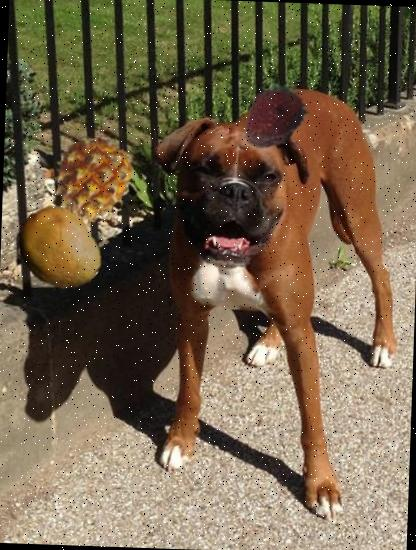Papaya: (15, 204, 107, 296)
Pineapple: (46, 132, 139, 226)
Strawberry: (238, 82, 310, 155)
